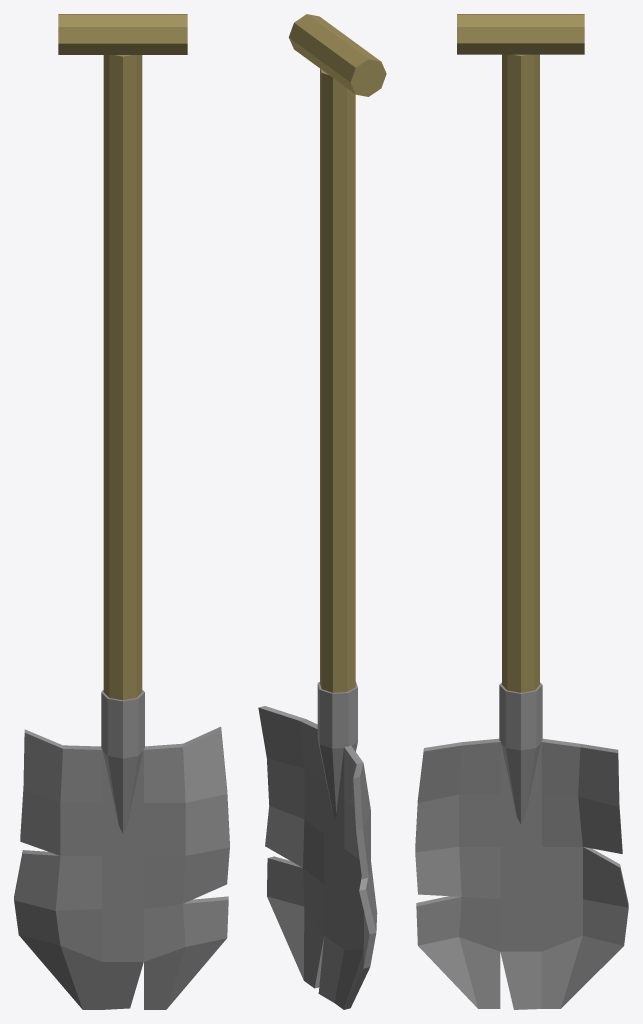
The model's file is shovel.fbx.
3 renders of one model, left to right at view 1: azimuth 90°, elevation 25°; view 2: azimuth 210°, elevation 25°; view 3: azimuth 270°, elevation 25°, orthographic. The views are drawn at different scales.
Visible parts, largest first — view 1: shovel_01; view 2: shovel_01; view 3: shovel_01.
Part boxes in pixels (x1=…): shovel_01: x1=14, y1=14, x2=229, y2=1009; shovel_01: x1=258, y1=14, x2=386, y2=1009; shovel_01: x1=415, y1=14, x2=628, y2=1009.
Size of the model in its own units: 4.78 by 86.25 by 16.91.
